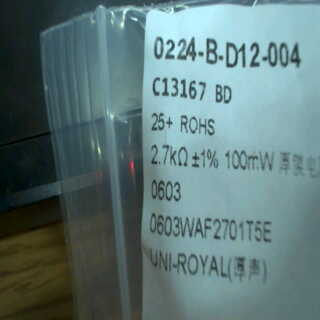2.7kR: (147, 138, 193, 170)
